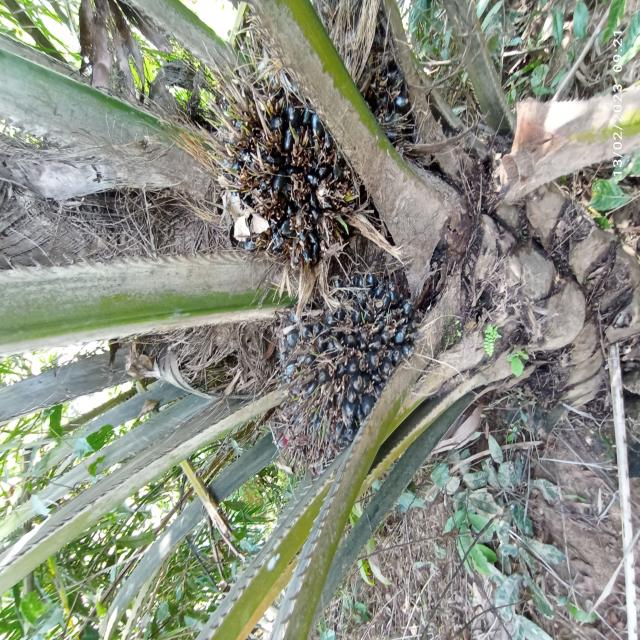fraksi 00: (181, 56, 407, 278), (224, 274, 448, 483)
